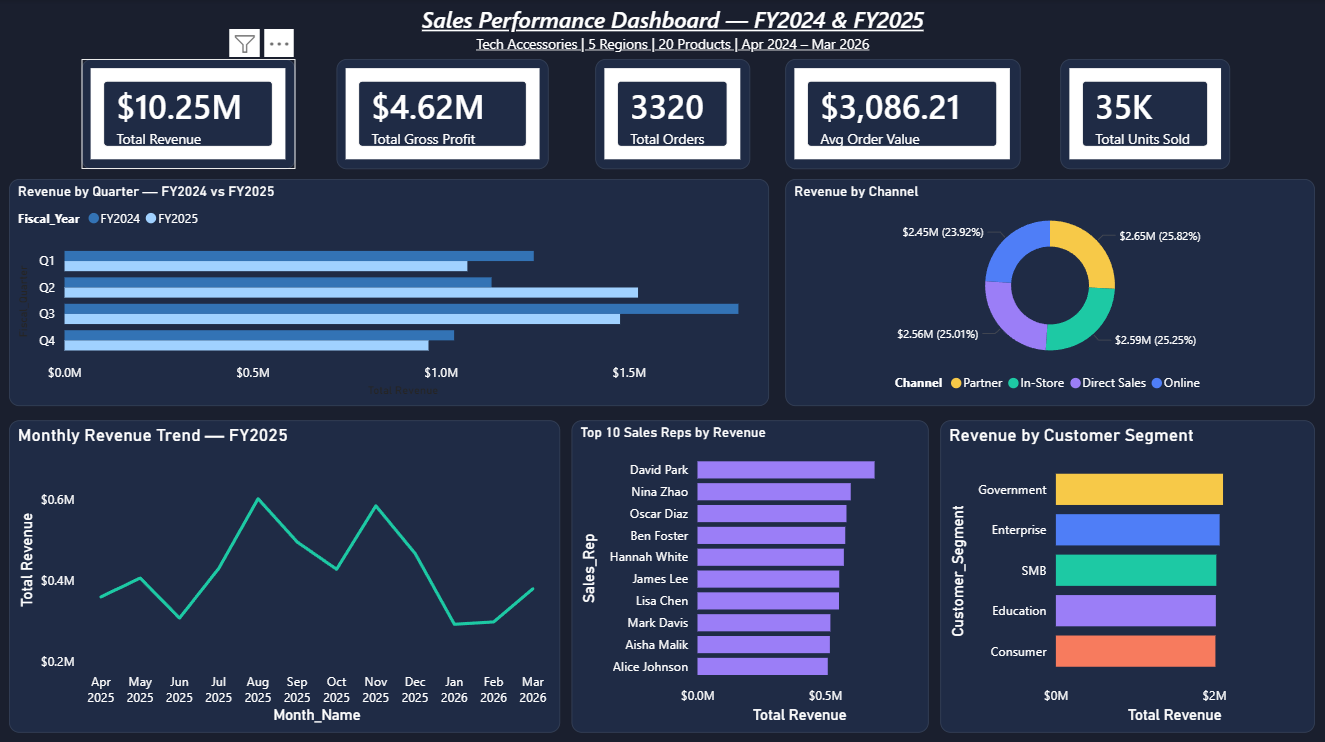

What the dashboard file says about the page in this screenshot:
{"tool":"powerbi","page":{"name":"Page 1","canvas":[1280,720],"ordinal":0},"visuals":[{"type":"cardVisual","fields":{"Data":["Sales.Total Revenue"]},"box":[79.6,57.9,206.3,106.2],"z":0},{"type":"cardVisual","fields":{"Data":["Sales.Total Orders"]},"box":[575.5,57.9,149.6,106.2],"z":1000},{"type":"cardVisual","fields":{"Data":["Sales.Total Gross Profit"]},"box":[325.7,57.9,205.1,106.2],"z":2000},{"type":"cardVisual","fields":{"Data":["Sales.Avg Order Value"]},"box":[758.9,57.9,226.8,106.2],"z":3000},{"type":"cardVisual","fields":{"Data":["Sales.Total Units Sold"]},"box":[1024.3,57.9,164.1,106.2],"z":4000},{"type":"clusteredBarChart","title":"Revenue by Quarter — FY2024 vs FY2025","fields":{"Category":["Date_Table.Fiscal_Quarter"],"Y":["Sales.Total Revenue"],"Series":["Date_Table.Fiscal_Year"]},"box":[9.7,173.7,733.5,219.6],"z":5000},{"type":"donutChart","title":"Revenue by Channel","fields":{"Y":["Sales.Total Revenue"],"Category":["Sales.Channel"]},"box":[758.9,173.7,511.5,219.6],"z":6000},{"type":"lineChart","title":"Monthly Revenue Trend —  FY2025","fields":{"Category":["Date_Table.Month_Name"],"Y":["Sales.Total Revenue"]},"box":[9.7,406.6,532,301.6],"z":7000},{"type":"barChart","title":"Top 10 Sales Reps by Revenue","fields":{"Category":["Sales.Sales_Rep"],"Y":["Sales.Total Revenue"]},"box":[552.5,406.6,345,301.6],"z":8000},{"type":"clusteredBarChart","title":"Revenue by Customer Segment","fields":{"Category":["Sales.Customer_Segment"],"Y":["Sales.Total Revenue"]},"box":[908.4,406.6,361.9,301.6],"z":9000},{"type":"textbox","box":[120.6,0,1059.3,66.4],"z":10000}]}

Visuals, with their boxes in screenshot pixels (x1, y1, x2, y2), scaled from the page's 1280x720 canvas onto the 1325x742 screenshot:
cardVisual - Sales.Total Revenue: select_region(82, 60, 296, 169)
cardVisual - Sales.Total Orders: select_region(596, 60, 751, 169)
cardVisual - Sales.Total Gross Profit: select_region(337, 60, 549, 169)
cardVisual - Sales.Avg Order Value: select_region(786, 60, 1020, 169)
cardVisual - Sales.Total Units Sold: select_region(1060, 60, 1230, 169)
"Revenue by Quarter — FY2024 vs FY2025" clusteredBarChart: select_region(10, 179, 769, 405)
"Revenue by Channel" donutChart: select_region(786, 179, 1315, 405)
"Monthly Revenue Trend —  FY2025" lineChart: select_region(10, 419, 561, 730)
"Top 10 Sales Reps by Revenue" barChart: select_region(572, 419, 929, 730)
"Revenue by Customer Segment" clusteredBarChart: select_region(940, 419, 1315, 730)
textbox: select_region(125, 0, 1221, 68)
